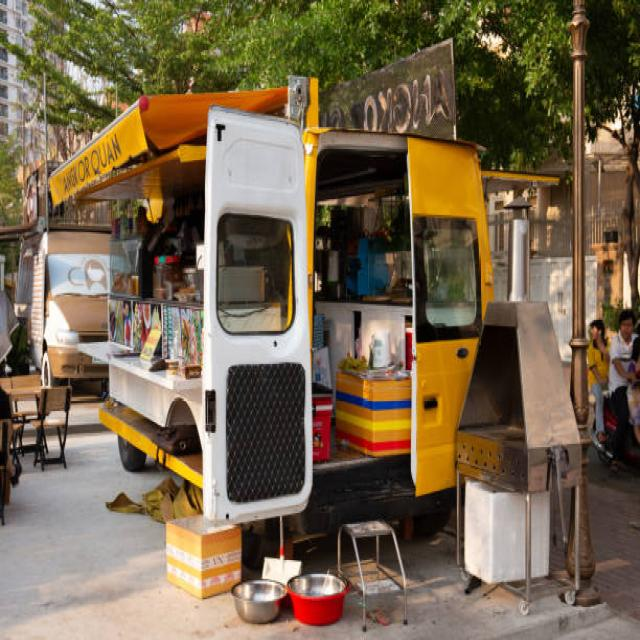Emperan: (49, 76, 304, 591)
